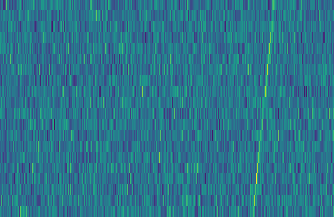signal: (250, 0, 281, 217)
